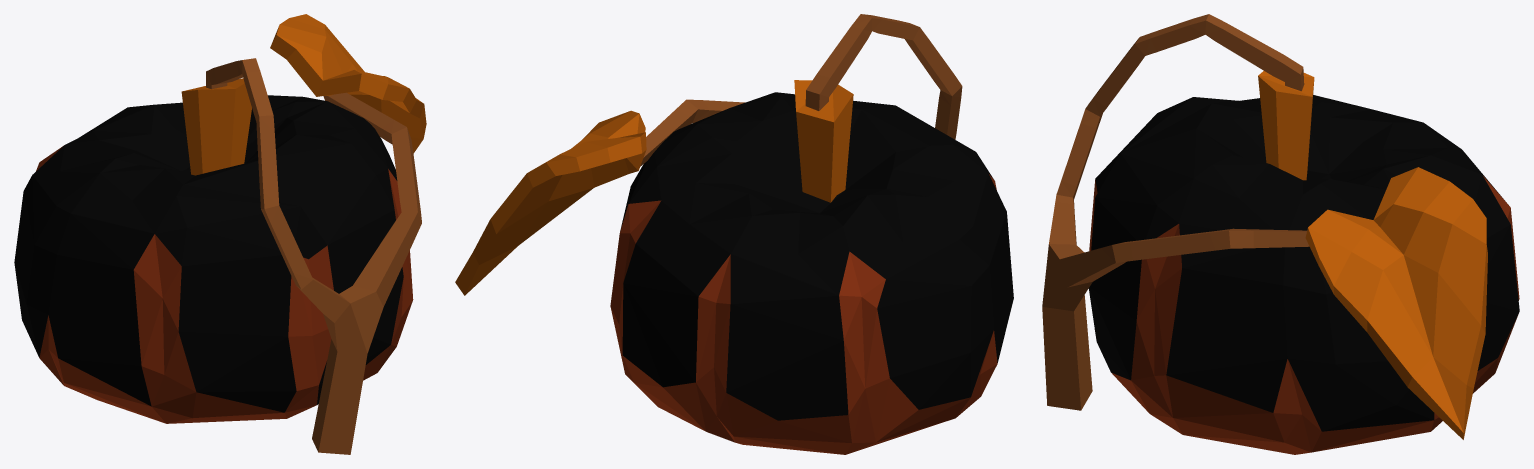
File: Pumpkin_S_Dead.fbx
3 renders of one model, left to right at view 1: azimuth 30°, elevation 25°; view 2: azimuth 150°, elevation 25°; view 3: azimuth 270°, elevation 25°, orthographic. The views are drawn at different scales.
Visible parts, largest first — view 1: Pumpkin_S_Dead.001, Pumpkin_S_Dead; view 2: Pumpkin_S_Dead.001, Pumpkin_S_Dead; view 3: Pumpkin_S_Dead.001, Pumpkin_S_Dead.
Boxes of the visible parts, x1,y1,x2,y2 form: Pumpkin_S_Dead.001: [14, 78, 413, 423]; Pumpkin_S_Dead: [206, 14, 426, 454]; Pumpkin_S_Dead.001: [610, 80, 1013, 454]; Pumpkin_S_Dead: [455, 14, 962, 295]; Pumpkin_S_Dead.001: [1088, 71, 1519, 454]; Pumpkin_S_Dead: [1042, 14, 1487, 439].
Size of the model in its own units: 33.06 by 24.52 by 28.18.
